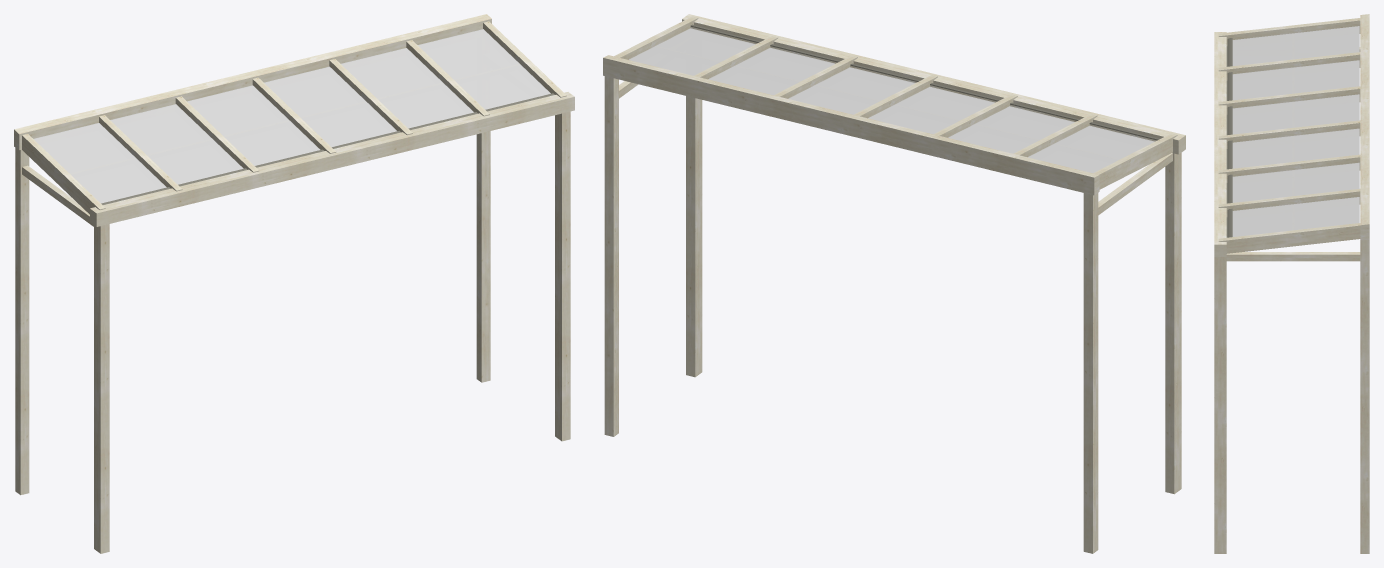
Rendered from sp-dokuritu_2k-4s_whitepine.fbx.
The picture shows the model from 3 angles, left to right: view 1: azimuth 30°, elevation 25°; view 2: azimuth 150°, elevation 25°; view 3: azimuth 270°, elevation 25°; orthographic projection. The views are drawn at different scales.
Parts seen in each view (by area): view 1: sp-dokuritu_2k-4s_whitepine; view 2: sp-dokuritu_2k-4s_whitepine; view 3: sp-dokuritu_2k-4s_whitepine.
Part boxes in pixels (box(x1,y1,x2,y2)): sp-dokuritu_2k-4s_whitepine: box(14, 14, 574, 553); sp-dokuritu_2k-4s_whitepine: box(603, 14, 1185, 553); sp-dokuritu_2k-4s_whitepine: box(1214, 14, 1369, 553).
Bounding box in the file's own units: 404 × 293 × 125.
3 materials, 2 textured.
